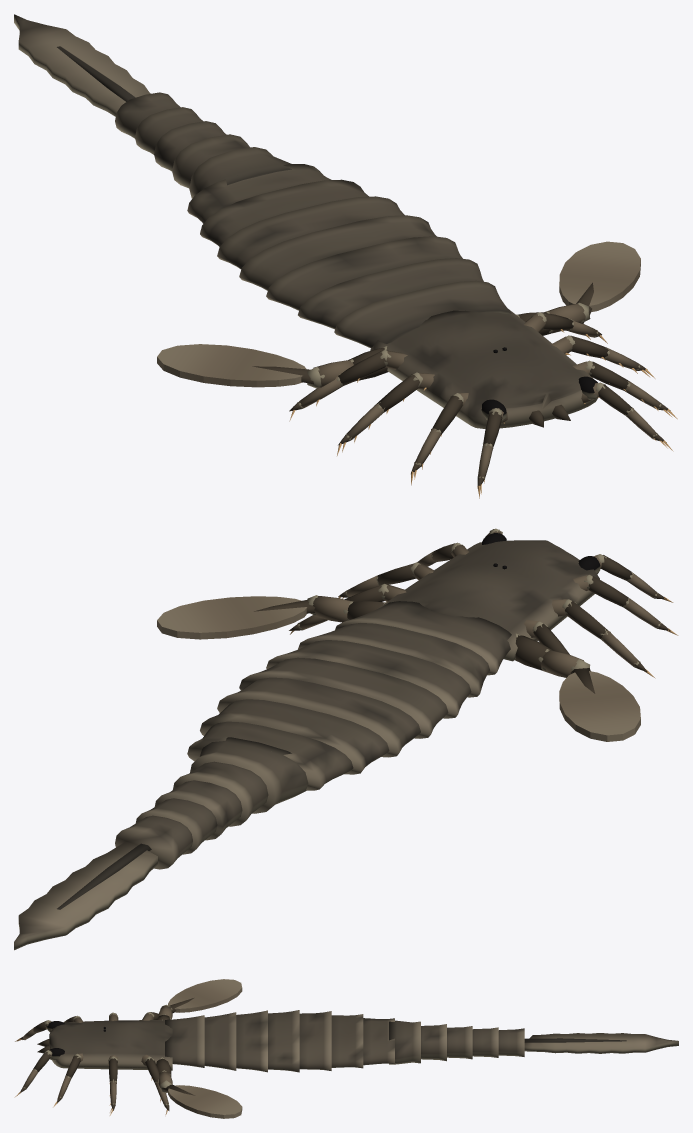
Rendered from SlimoniaAcuminata.fbx.
3 views of the same model, one above another, from view 1: azimuth 30°, elevation 25°; view 2: azimuth 150°, elevation 25°; view 3: azimuth 270°, elevation 25° (orthographic). The views are drawn at different scales.
Visible parts, largest first — view 1: SlimoniaAcuminata; view 2: SlimoniaAcuminata; view 3: SlimoniaAcuminata.
Boxes of the visible parts, x1,y1,x2,y2 form: SlimoniaAcuminata: (14, 14, 677, 498); SlimoniaAcuminata: (14, 528, 678, 950); SlimoniaAcuminata: (14, 979, 678, 1118).
Bounding box in the file's own units: 1.04 × 0.1582 × 2.15.
